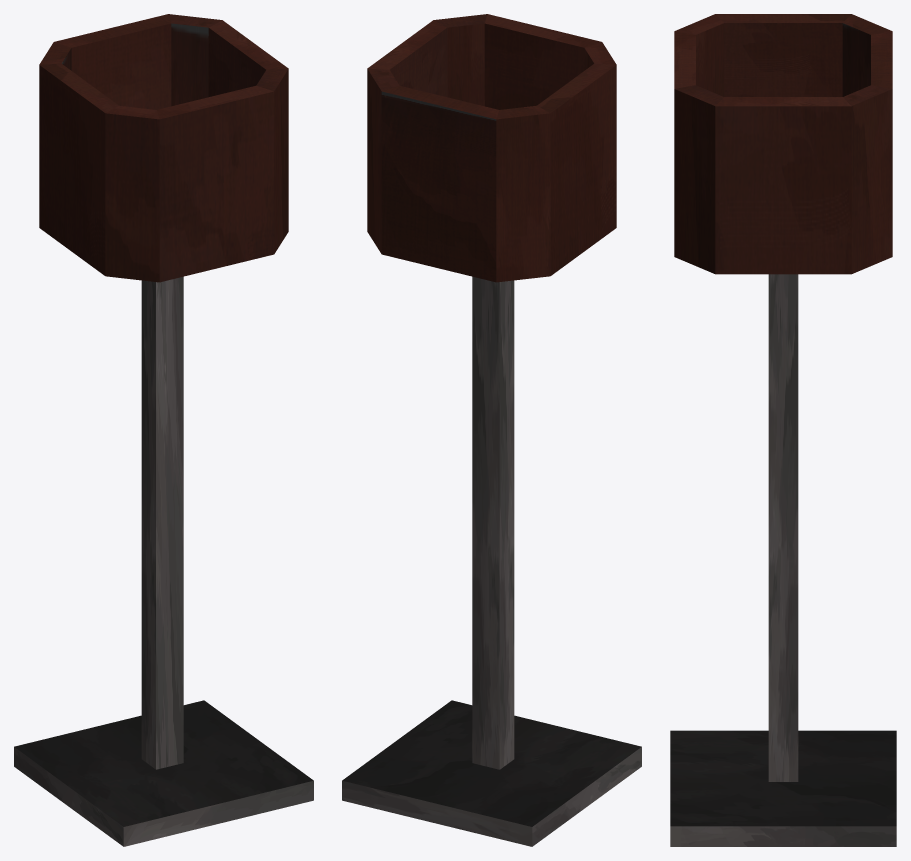
File: M-StandingLamp (1).fbx
3 views of the same model, side by side, from view 1: azimuth 30°, elevation 25°; view 2: azimuth 150°, elevation 25°; view 3: azimuth 270°, elevation 25° (orthographic). The views are drawn at different scales.
Parts seen in each view (by area): view 1: Cube.005; view 2: Cube.005; view 3: Cube.005.
Boxes of the visible parts, x1,y1,x2,y2 form: Cube.005: [14, 14, 313, 846]; Cube.005: [342, 14, 641, 846]; Cube.005: [670, 14, 896, 846].
Bounding box in the file's own units: 42.09 × 42.09 × 152.
Materials: 1 (1 with a texture image).
